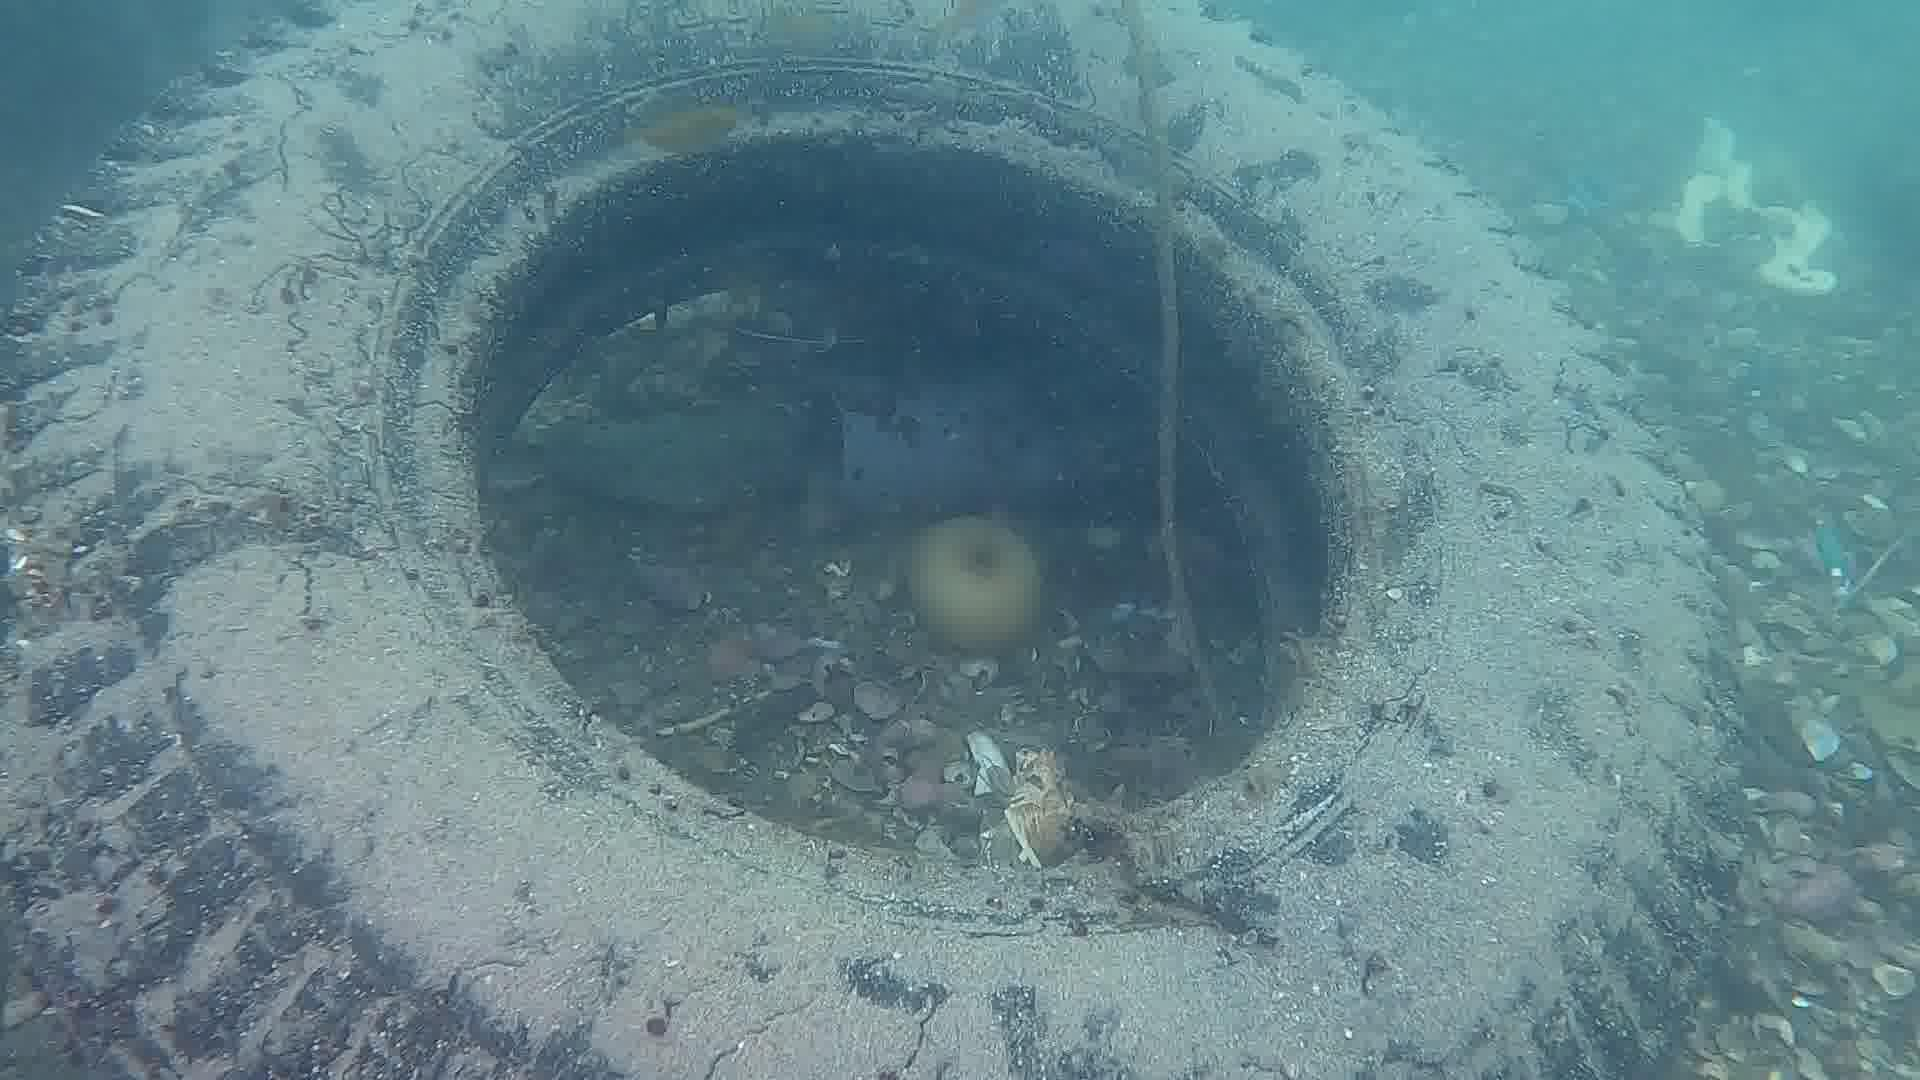tire: (0, 0, 1734, 1080)
